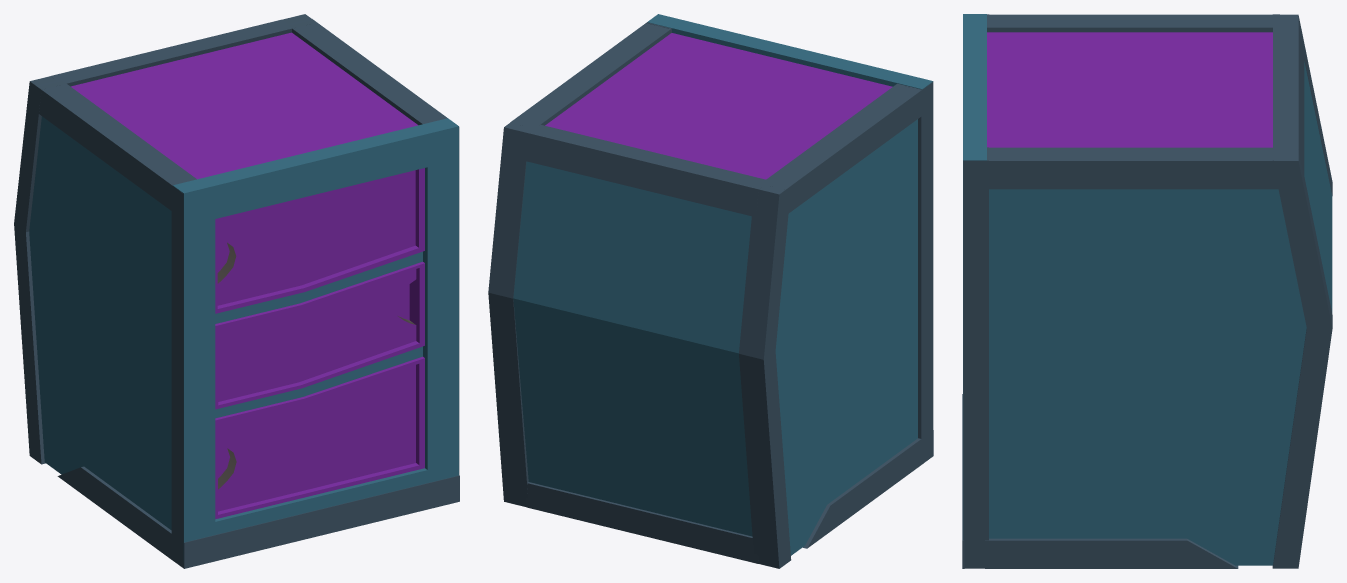
The model's file is bedside_table_tier19.fbx.
3 views of the same model, side by side, from view 1: azimuth 30°, elevation 25°; view 2: azimuth 150°, elevation 25°; view 3: azimuth 270°, elevation 25° (orthographic). The views are drawn at different scales.
Parts seen in each view (by area): view 1: Cube.022, Cube.001, Cube.017, Cube.007, Cube.002, Cube.023, Cube.013, Cube.021, Cube.004, Cube.003, Cube.020, Cube.019 (+3 smaller); view 2: Cube.008, Cube.022, Cube.017, Cube.004, Cube.010, Cube.019, Cube.021, Cube.014, Cube.003, Cube.001, Cube.020, Cube.016; view 3: Cube.011, Cube.017, Cube.020, Cube.010, Cube.009, Cube.015, Cube.021, Cube.019, Cube.001, Cube.008, Cube.004.
Boxes of the visible parts, x1,y1,x2,y2 form: Cube.022: (29,116,171,530); Cube.001: (173,118,458,562); Cube.017: (71,32,417,179); Cube.007: (215,356,424,519); Cube.002: (215,168,424,313); Cube.023: (215,261,424,409); Cube.013: (183,475,459,568); Cube.021: (36,81,196,210); Cube.004: (14,76,65,464); Cube.003: (171,179,196,568); Cube.020: (287,18,446,125); Cube.019: (50,19,291,86); Cube.008: (513,161,752,536); Cube.022: (775,119,917,555); Cube.017: (545,33,892,179); Cube.004: (739,179,791,568); Cube.010: (488,118,540,507); Cube.019: (524,124,766,217); Cube.021: (764,84,921,213); Cube.014: (526,482,758,563); Cube.003: (897,82,933,464); Cube.001: (647,14,933,89); Cube.020: (510,23,670,128); Cube.016: (803,438,921,548); Cube.011: (989,189,1306,565); Cube.017: (987,32,1272,147); Cube.020: (985,147,1284,189); Cube.010: (1272,147,1332,568); Cube.009: (963,147,988,568); Cube.015: (985,538,1238,568); Cube.021: (987,14,1284,32); Cube.019: (1273,25,1304,175); Cube.001: (963,14,986,539); Cube.008: (1304,61,1332,312); Cube.004: (1272,14,1332,195).
Size of the model in its own units: 77.73 by 101 by 83.
